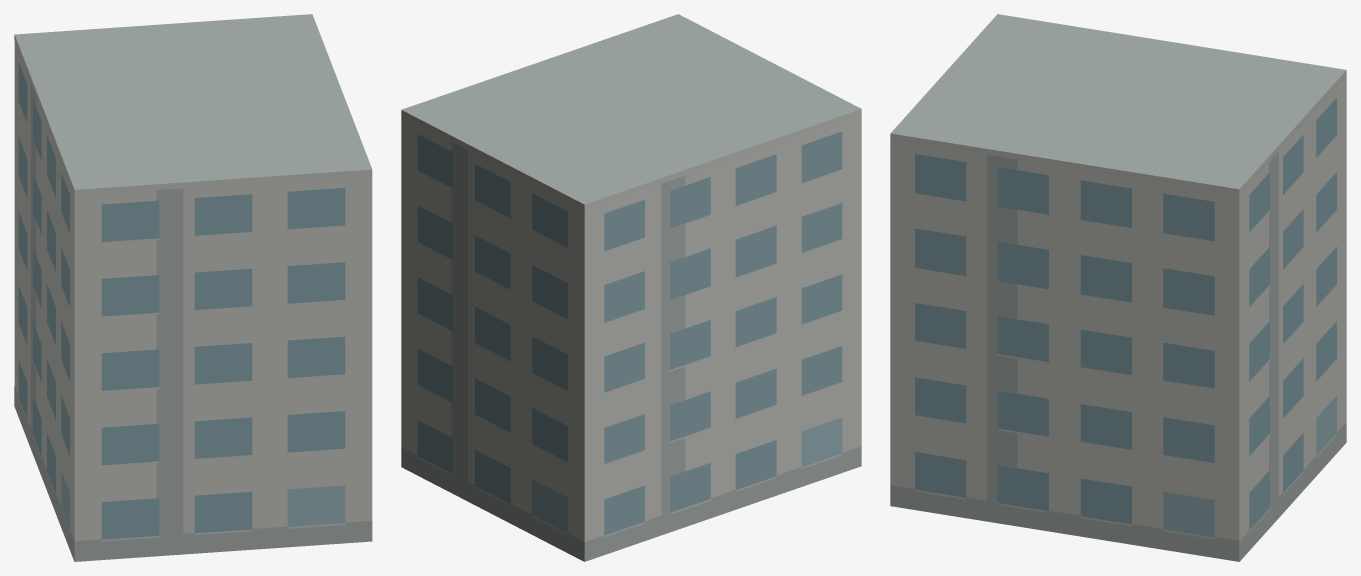
File: residential-18f30a76-31b5-4dce-bd82-2d9f45935245.glb
The picture shows the model from 3 angles, left to right: view 1: azimuth 30°, elevation 25°; view 2: azimuth 150°, elevation 25°; view 3: azimuth 270°, elevation 25°; orthographic projection. The views are drawn at different scales.
Parts seen in each view (by area): view 1: residential-18f30a76-31b5-4dce-bd82-2d9f45935245.tmp; view 2: residential-18f30a76-31b5-4dce-bd82-2d9f45935245.tmp; view 3: residential-18f30a76-31b5-4dce-bd82-2d9f45935245.tmp.
Part boxes in pixels (x1,y1,x2,y2): residential-18f30a76-31b5-4dce-bd82-2d9f45935245.tmp: (14, 14, 372, 561); residential-18f30a76-31b5-4dce-bd82-2d9f45935245.tmp: (401, 14, 861, 561); residential-18f30a76-31b5-4dce-bd82-2d9f45935245.tmp: (890, 14, 1346, 561).
Bounding box in the file's own units: 15.39 × 15.25 × 16.93.
